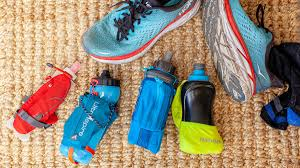bottles: (7, 61, 79, 140), (61, 70, 119, 163), (128, 52, 177, 152), (171, 64, 223, 153)
